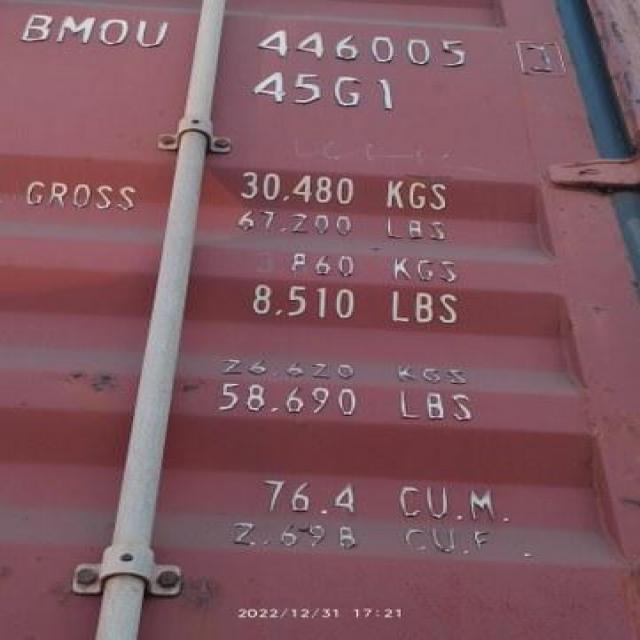ISO: (248, 64, 424, 113)
container_number: (22, 6, 576, 70)
